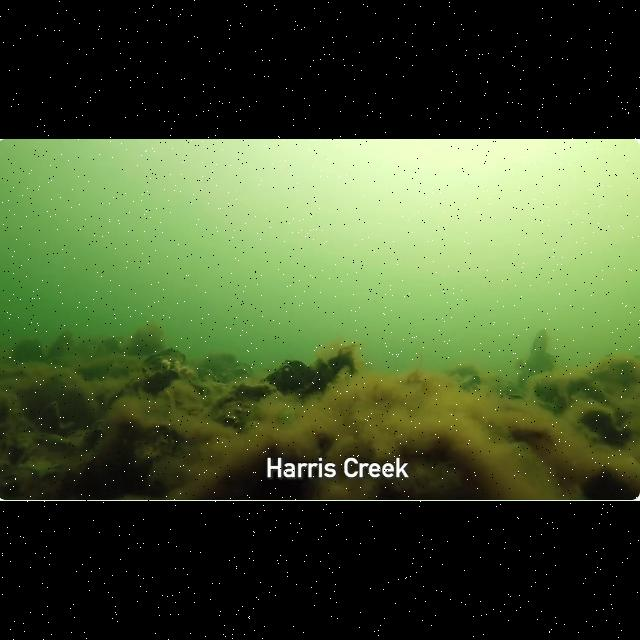Oyster-Closed: (583, 469, 639, 500), (135, 427, 180, 465), (266, 360, 315, 393), (589, 358, 639, 387), (126, 370, 180, 395), (580, 412, 619, 443), (566, 378, 610, 405), (535, 380, 566, 414), (31, 433, 80, 453), (528, 330, 555, 365), (143, 349, 185, 371), (309, 359, 336, 393), (328, 348, 356, 376), (449, 367, 481, 391), (231, 385, 275, 402), (84, 420, 104, 446), (226, 363, 253, 379), (196, 367, 218, 382), (190, 382, 213, 396), (230, 368, 253, 381)
